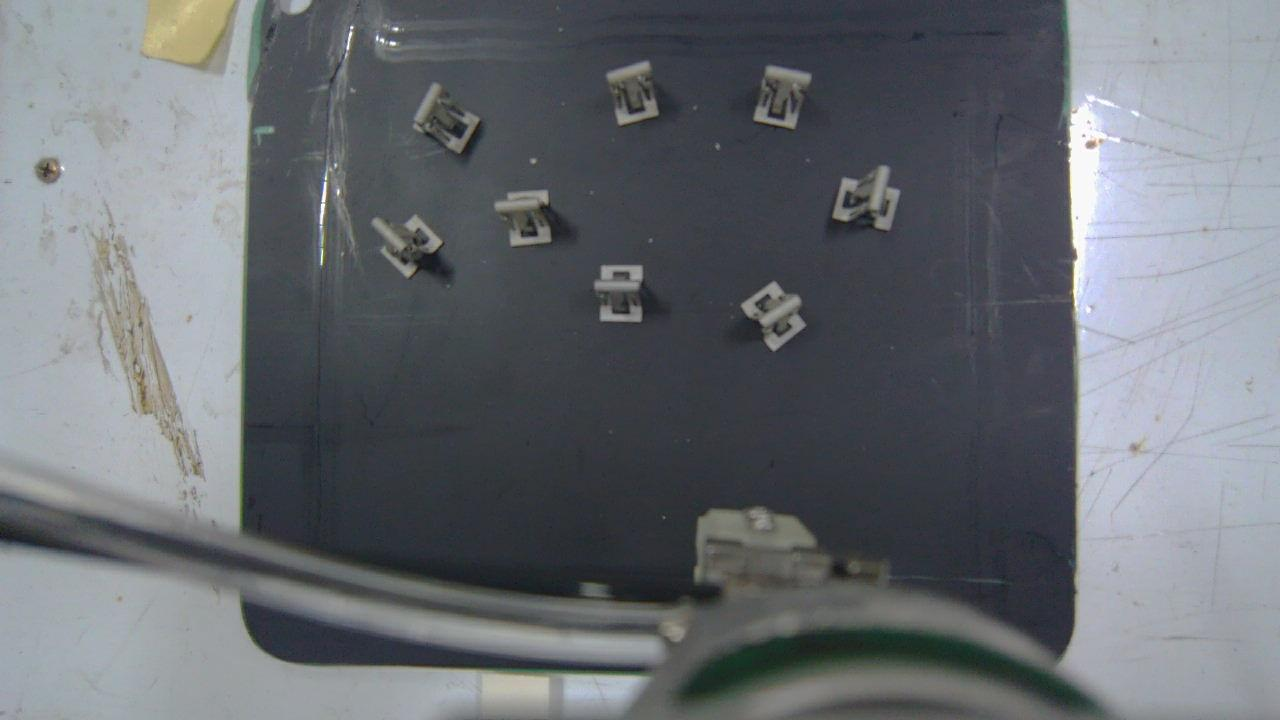ng: (413, 83, 479, 155), (372, 213, 444, 276), (754, 65, 811, 129), (605, 61, 658, 124), (497, 191, 552, 245)
pass: (739, 281, 806, 351), (831, 167, 902, 232), (595, 266, 644, 324)
